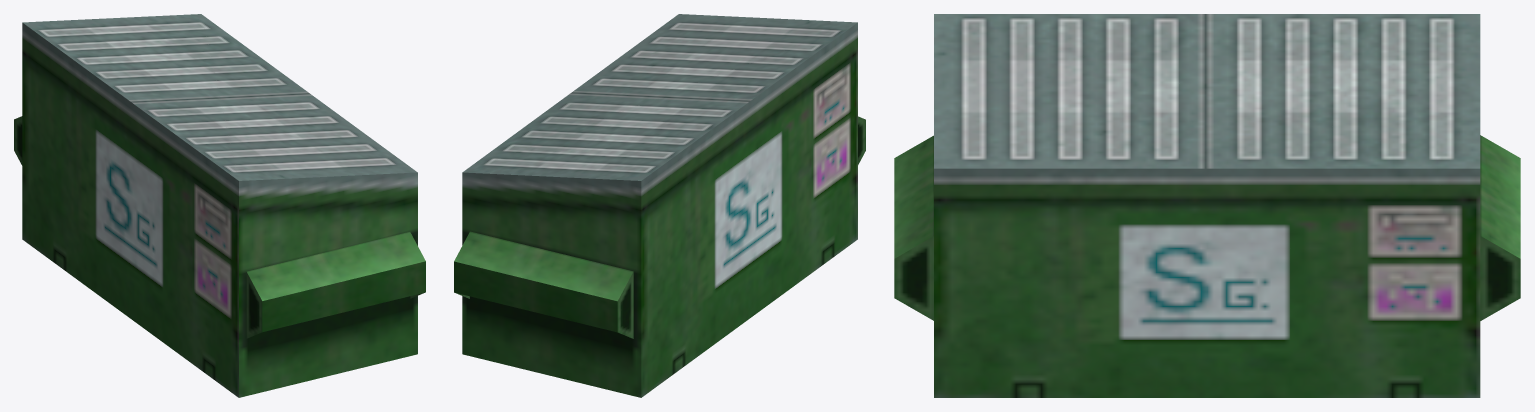
The model's file is Dumpster.fbx.
3 renders of one model, left to right at view 1: azimuth 30°, elevation 25°; view 2: azimuth 150°, elevation 25°; view 3: azimuth 270°, elevation 25°, orthographic. The views are drawn at different scales.
Visible parts, largest first — view 1: Dumpster9; view 2: Dumpster9; view 3: Dumpster9.
Part boxes in pixels (bbox=[...]): Dumpster9: bbox=[14, 14, 425, 397]; Dumpster9: bbox=[454, 14, 865, 397]; Dumpster9: bbox=[894, 14, 1520, 397].
Bounding box in the file's own units: 0.4693 × 0.5436 × 1.13.
